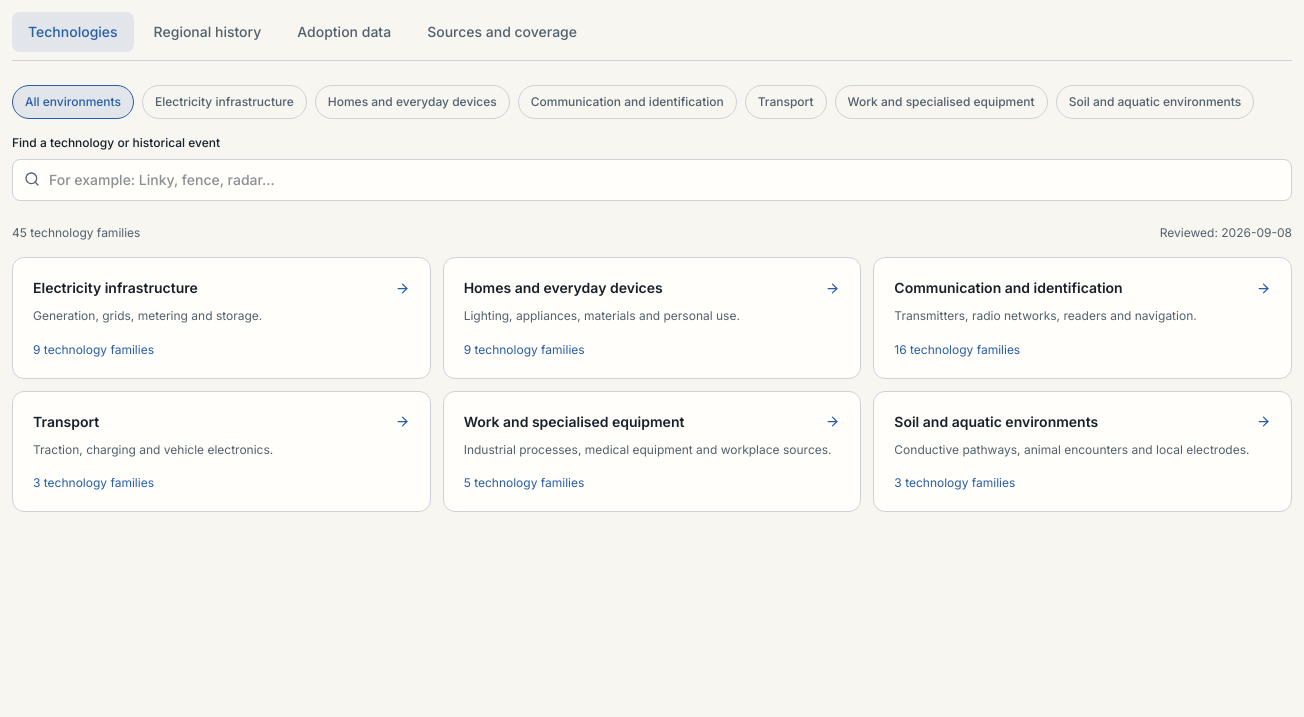
technology history reading path › combines geography, period and event type without treating launches as perpetual deployment
This screenshot has width=1304, height=717.
Click the tab "Regional history".
click(207, 32)  # box [138,12,277,52]
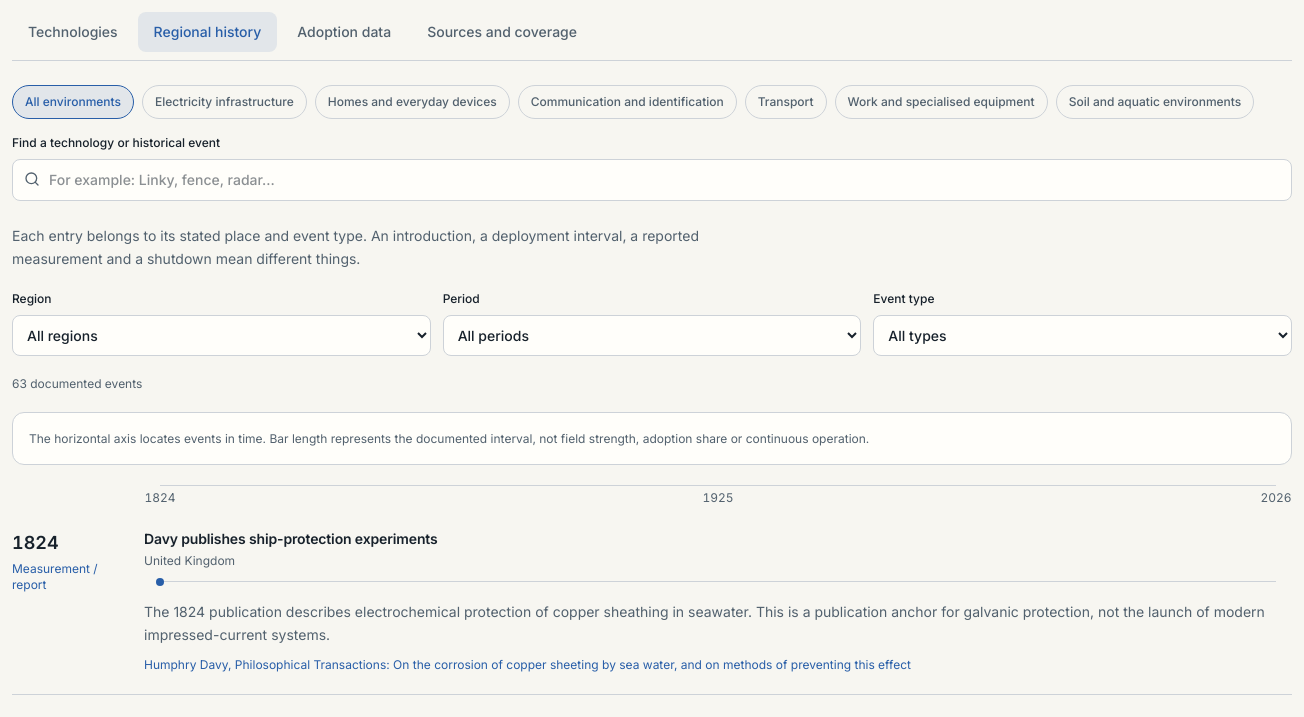
Select "Global" in the dropdown labelled "Region" at (221, 335), box [12,314,431,356]
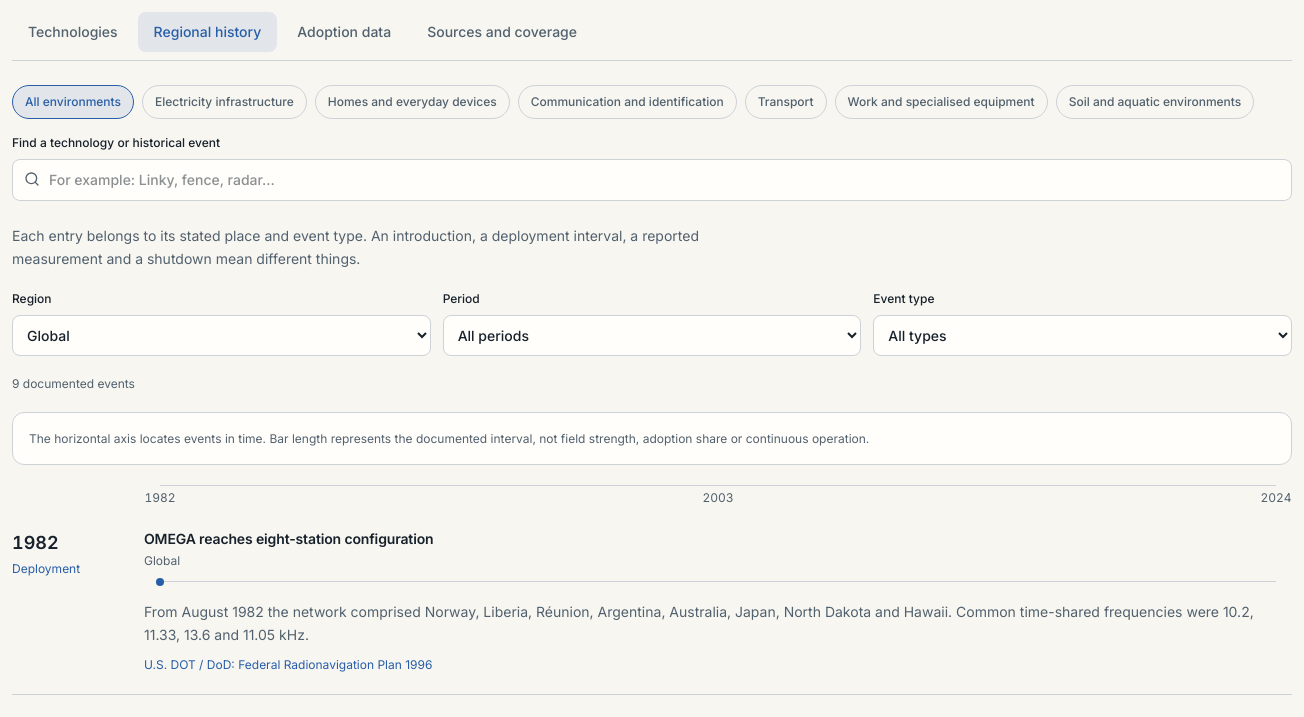
Select "1980–1999" in the dropdown labelled "Period" at (652, 335), box [443,314,861,356]
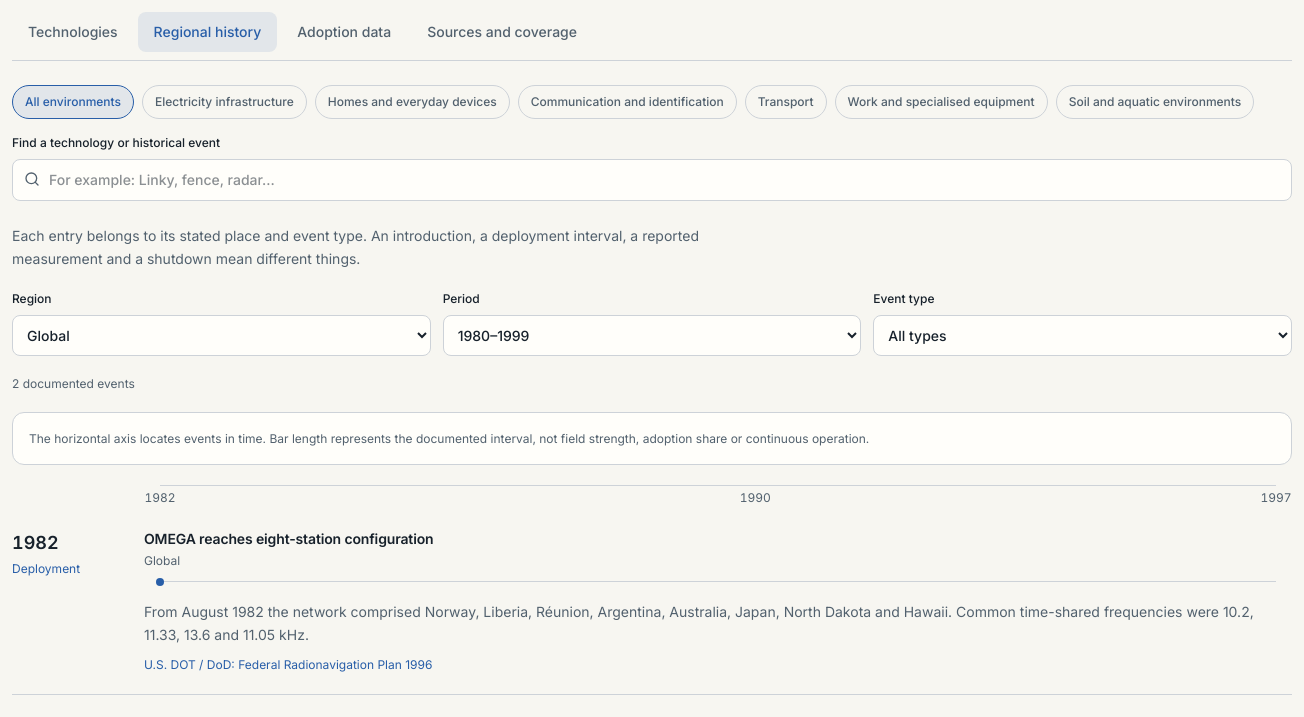
Select "Shutdown" in the dropdown labelled "Event type" at (1083, 335), box [873,314,1292,356]
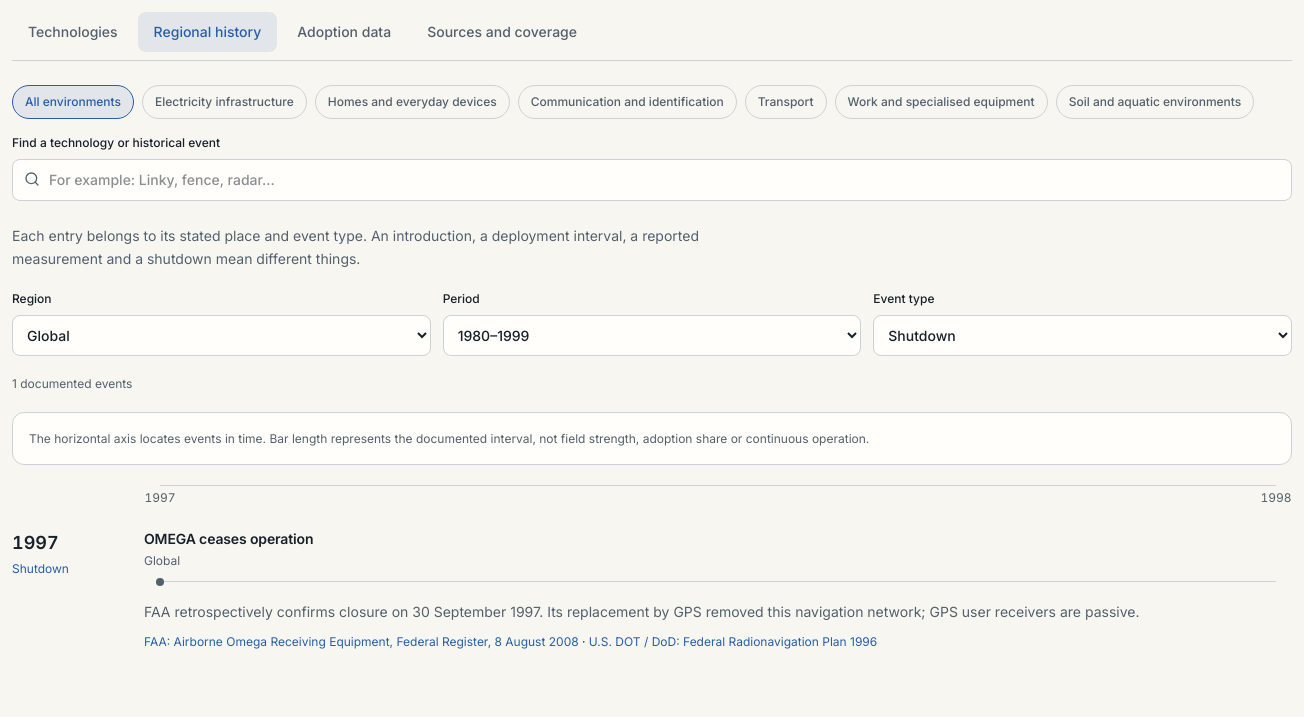
Expected: the heading "OMEGA ceases operation" is shown, [144,530,313,547]
Expected: the number of list items is 1, [12,529,1292,671]
Select "Before 1900" in the dropdown labelled "Period" at (652, 335), box [443,314,861,356]
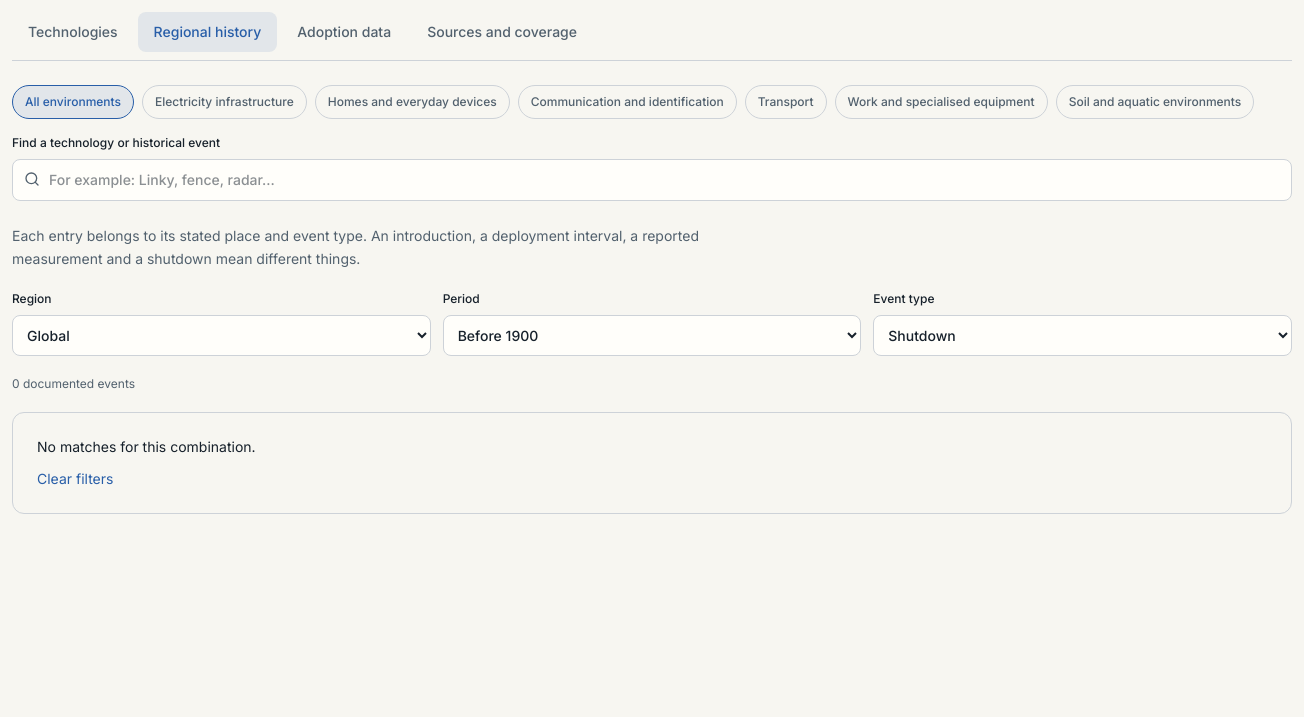
Expected: the text "No matches for this combination." is shown, [37,438,256,454]
Click the button "Clear filters".
click(75, 478)  # box [37,468,113,488]
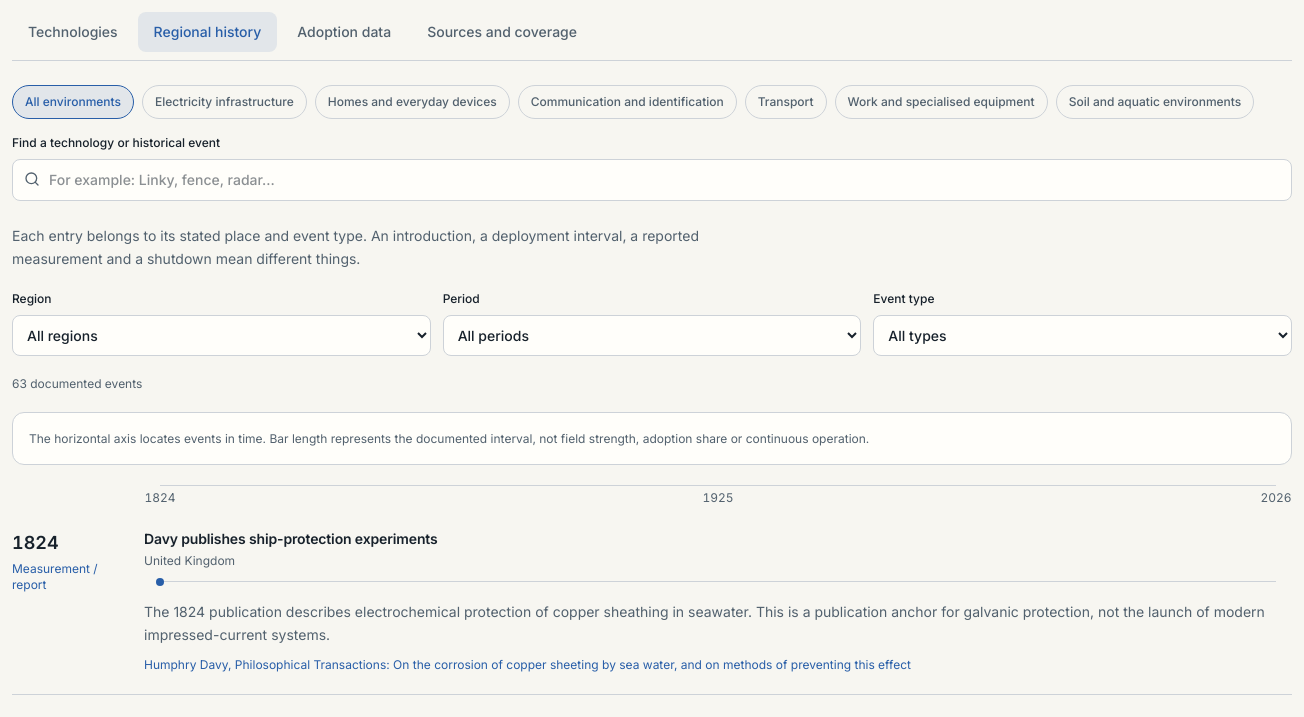
Expected: the text "No matches for this combination." is gone
